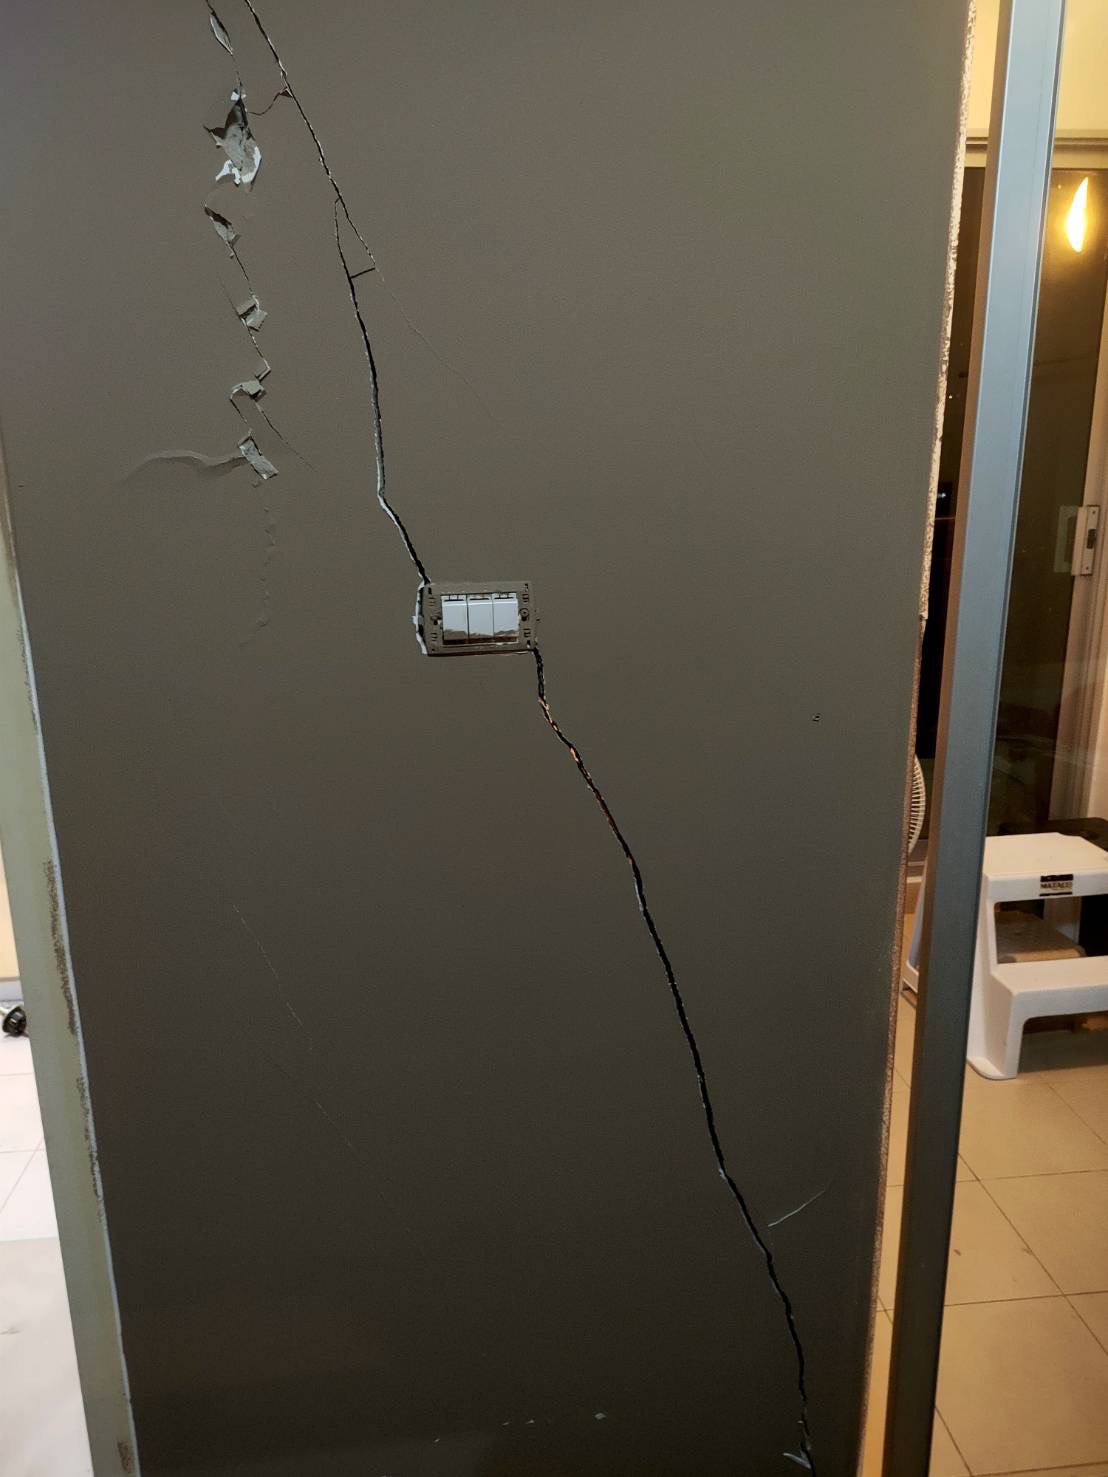Medium: (134, 26, 469, 564)
